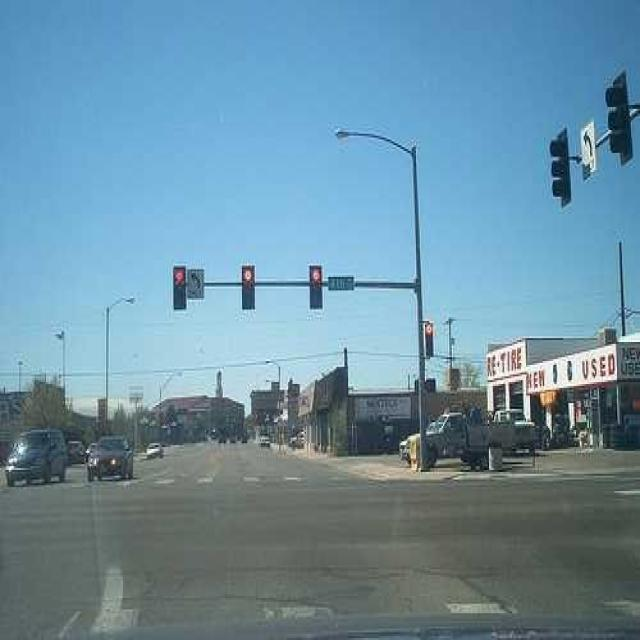Traffic Light -Red-: (242, 264, 256, 310), (174, 266, 186, 310), (310, 264, 322, 308), (425, 325, 434, 357)
